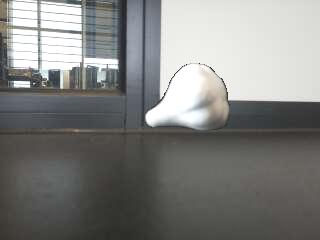Garlic: (143, 63, 231, 134)
